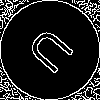U: (25, 25, 83, 82)
